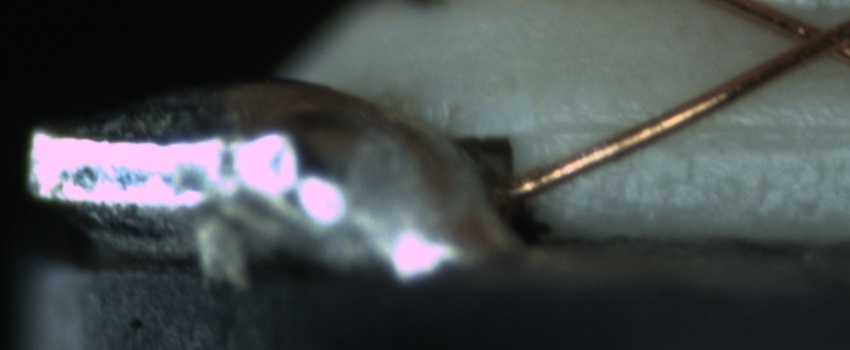CL: (777, 9, 850, 67)
DL: (545, 94, 846, 162)
